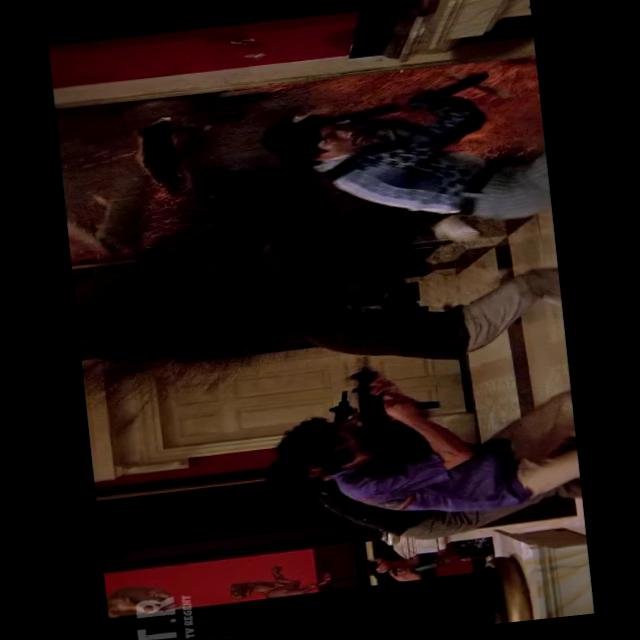long weapon: (337, 326, 461, 480)
